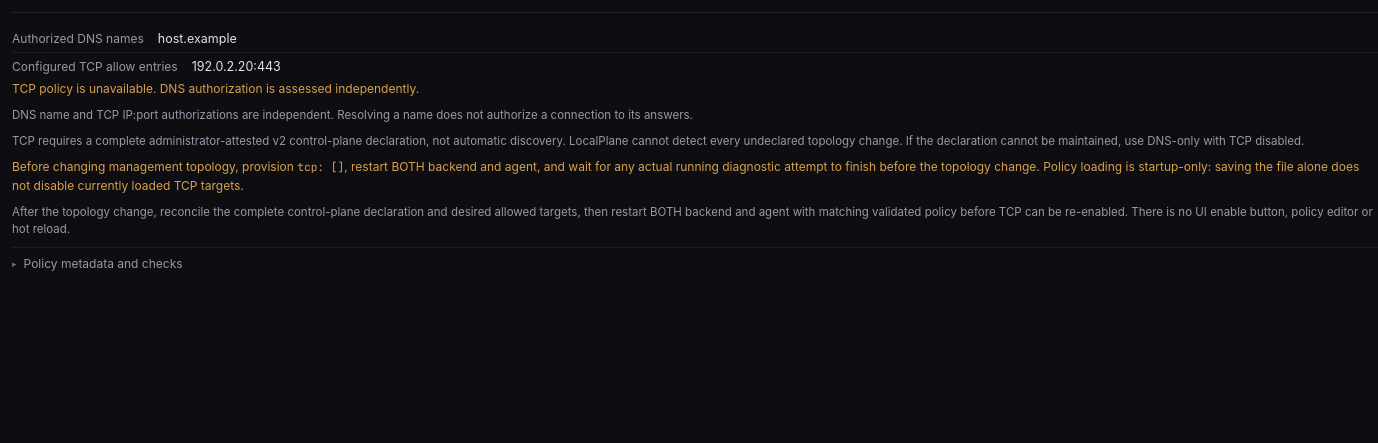
Test case: diagnostic policy presentation › keeps prerequisites and topology recovery visible while making policy metadata discoverable
This screenshot has width=1378, height=443.
Expected: the text "DNS name and TCP IP:port authorizations are independent" is shown, [12,108,693,122]
Expected: the text "administrator-attested v2 control-plane declaration" is shown, [12,134,1304,148]
Click the text "Policy metadata and checks" at (103, 264), box [24,255,182,273]
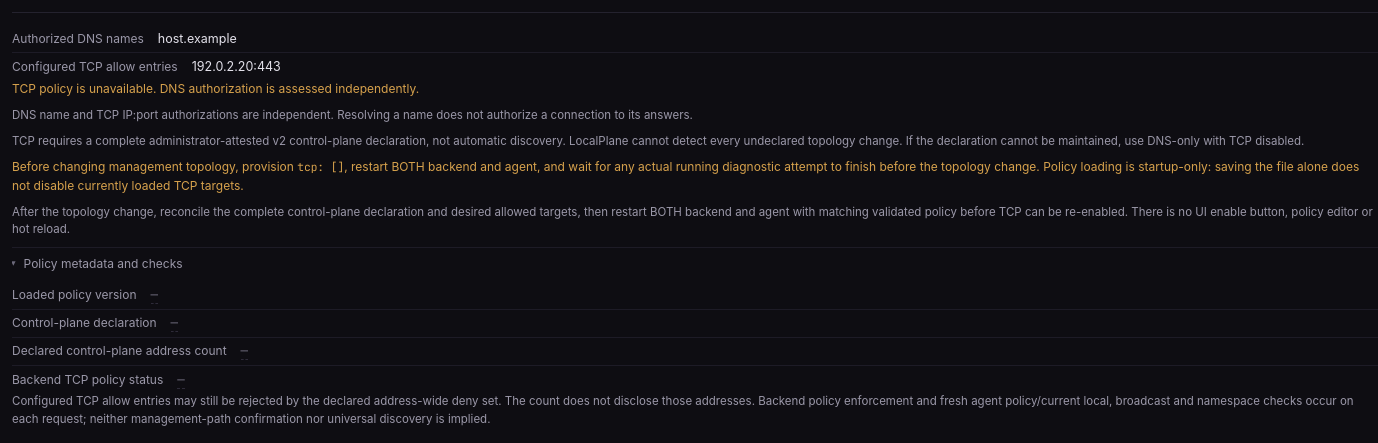
Result: the text "Loaded policy version" is shown at [12,286,136,304]
Result: the text "Configured TCP allow entries may still be rejected" is shown at [12,394,1354,426]
